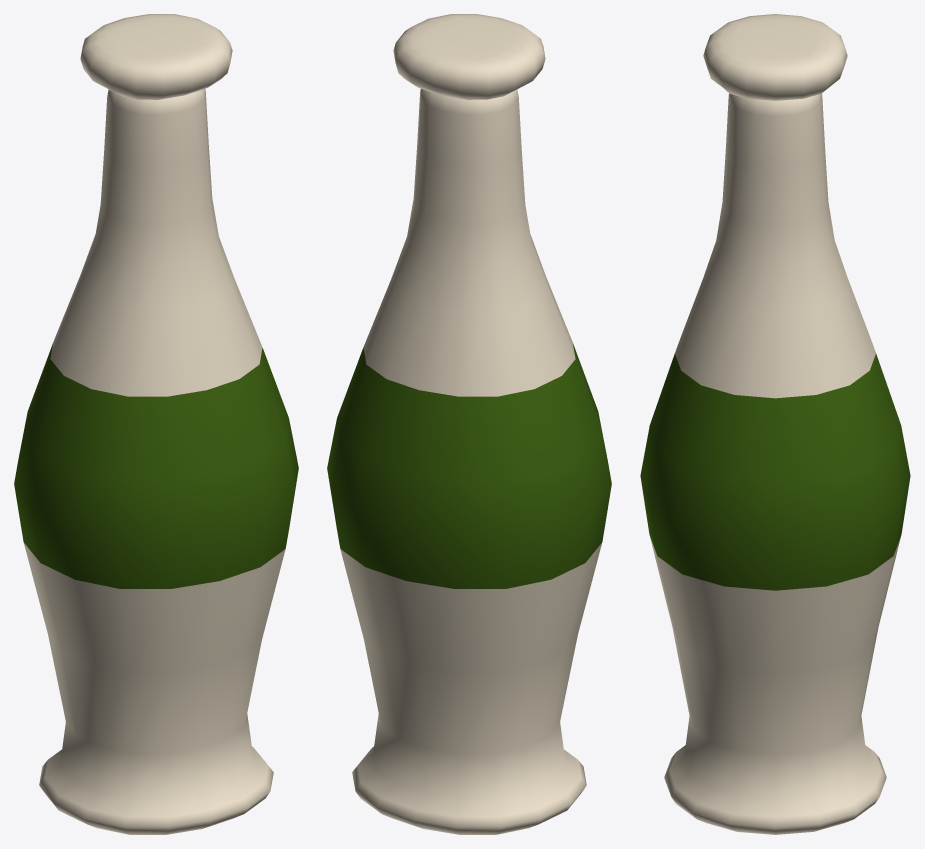
File: Bottle.glb
3 views of the same model, side by side, from view 1: azimuth 30°, elevation 25°; view 2: azimuth 150°, elevation 25°; view 3: azimuth 270°, elevation 25° (orthographic).
Visible parts, largest first — view 1: Cube; view 2: Cube; view 3: Cube.
Boxes of the visible parts, left/top/right/bottom form: Cube: left=14, top=14, right=298, bottom=834; Cube: left=327, top=14, right=611, bottom=834; Cube: left=640, top=14, right=910, bottom=834.
Size of the model in its own units: 0.0917 by 0.2703 by 0.0867.
